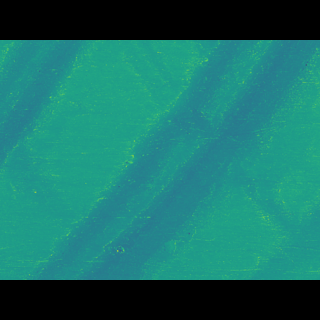Loch: (24, 69, 320, 248), (0, 70, 105, 165)
